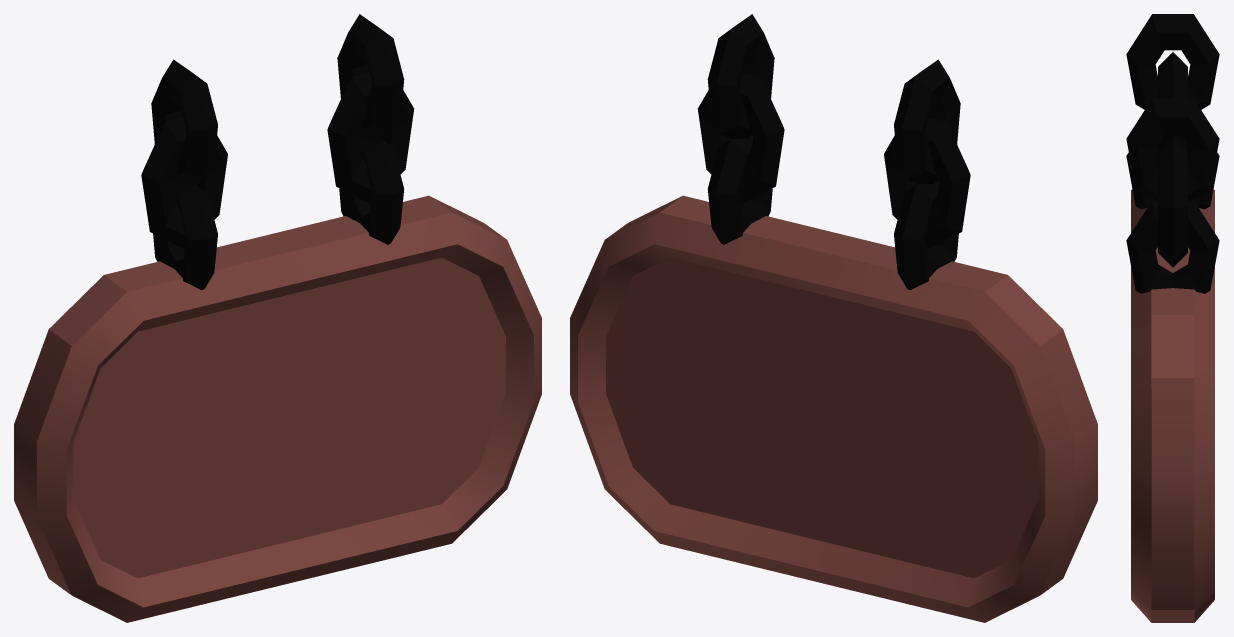
The model's file is Singboard_02.fbx.
3 renders of one model, left to right at view 1: azimuth 30°, elevation 25°; view 2: azimuth 150°, elevation 25°; view 3: azimuth 270°, elevation 25°, orthographic. The views are drawn at different scales.
Visible parts, largest first — view 1: Singboard_02; view 2: Singboard_02; view 3: Singboard_02.
Part boxes in pixels (x1=…): Singboard_02: x1=14, y1=14, x2=541, y2=622; Singboard_02: x1=570, y1=14, x2=1097, y2=622; Singboard_02: x1=1126, y1=14, x2=1219, y2=622.
Size of the model in its own units: 148 by 148 by 25.44.
